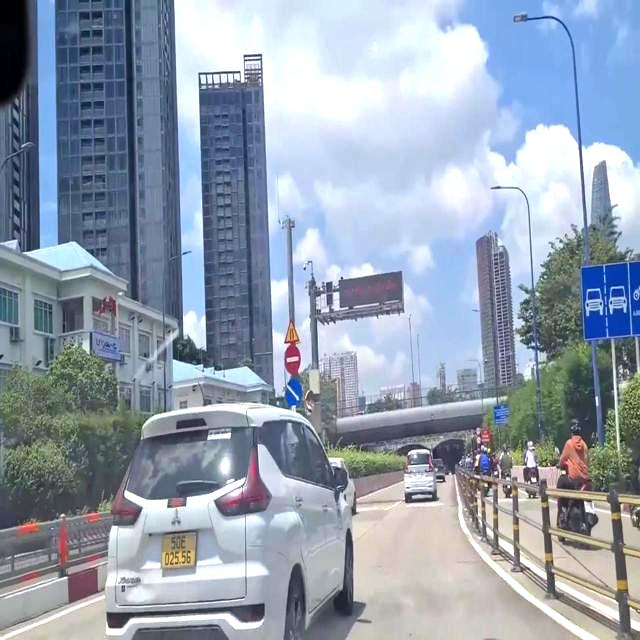Cấm đi ngược chiều: (282, 345, 302, 375)
Hướng phải đi vòng sang phải: (282, 374, 303, 407)
Làn đường cho từng xe: (573, 253, 639, 336)
Đường hẹp: (281, 314, 301, 345)
